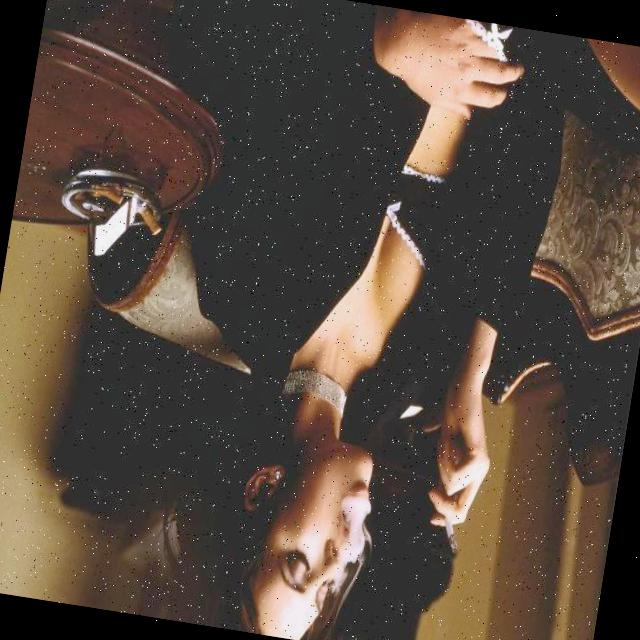smoke: (324, 489, 379, 582)
